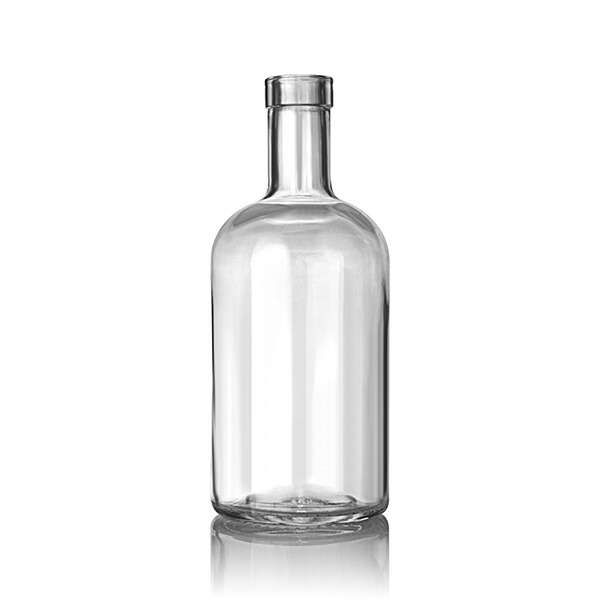glass_bottle: (180, 64, 436, 562)
